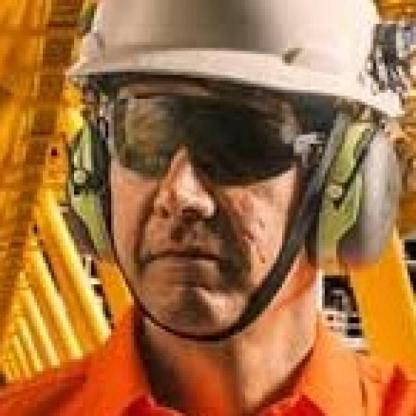capacete: (82, 0, 376, 72)
oculos: (96, 86, 303, 192)
